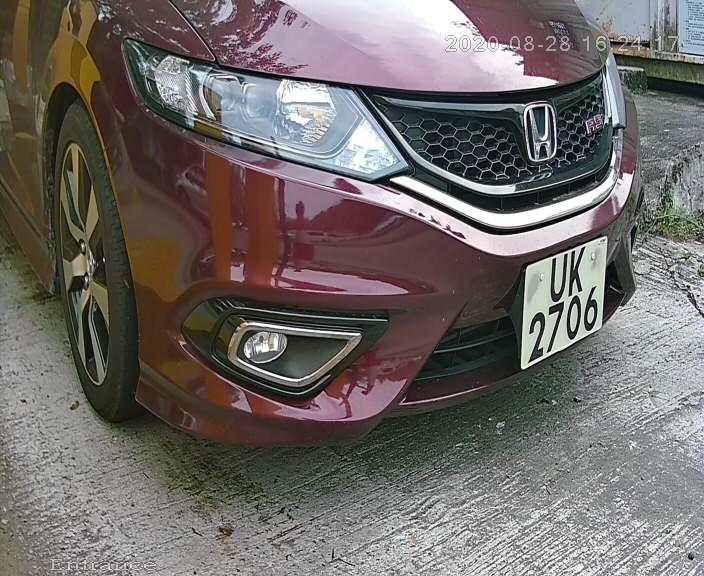License Plate: (510, 229, 613, 368)
